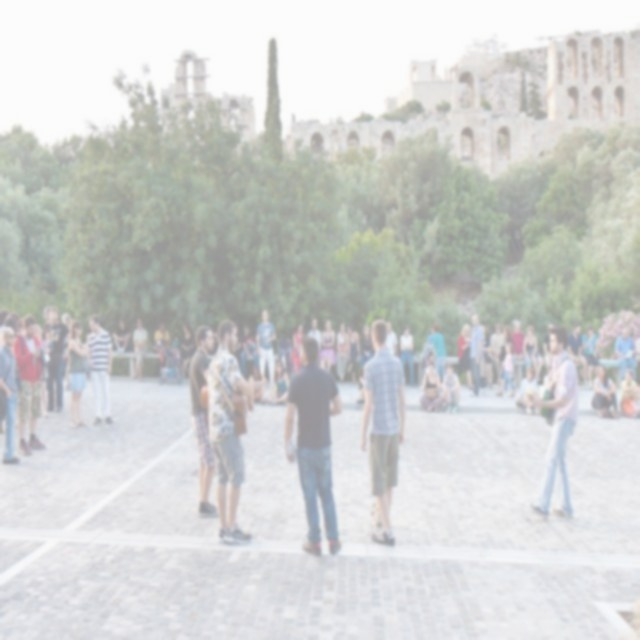pessoa: (282, 334, 346, 560), (358, 318, 408, 548), (206, 316, 256, 546), (523, 322, 579, 522), (188, 324, 220, 518), (13, 312, 48, 457), (37, 304, 74, 414), (0, 325, 24, 466), (86, 314, 114, 426), (67, 317, 92, 428), (590, 362, 622, 420), (31, 323, 50, 418), (416, 358, 446, 414), (256, 308, 276, 392), (566, 320, 589, 388), (0, 307, 36, 349), (468, 313, 484, 398), (224, 319, 245, 382), (522, 323, 544, 383), (580, 324, 600, 389), (130, 316, 149, 384), (266, 358, 292, 407), (614, 326, 637, 381), (398, 322, 416, 390), (517, 366, 541, 416), (239, 321, 260, 378), (618, 368, 640, 422), (499, 342, 519, 400), (457, 324, 474, 392), (511, 319, 532, 373), (440, 362, 461, 414), (178, 320, 198, 374), (431, 322, 447, 387), (488, 321, 506, 378), (498, 324, 514, 388), (346, 322, 362, 384), (319, 318, 337, 370), (248, 364, 268, 406), (111, 316, 132, 356), (481, 324, 493, 388), (292, 322, 306, 376), (542, 321, 556, 374), (152, 320, 172, 357), (336, 321, 348, 382), (431, 322, 444, 378), (360, 324, 376, 369), (419, 339, 437, 375), (384, 318, 400, 358), (306, 317, 322, 354), (207, 324, 222, 358), (172, 334, 182, 366), (542, 366, 554, 390), (60, 312, 74, 330), (634, 335, 640, 370), (42, 304, 52, 324), (358, 364, 365, 391), (318, 356, 329, 371)
